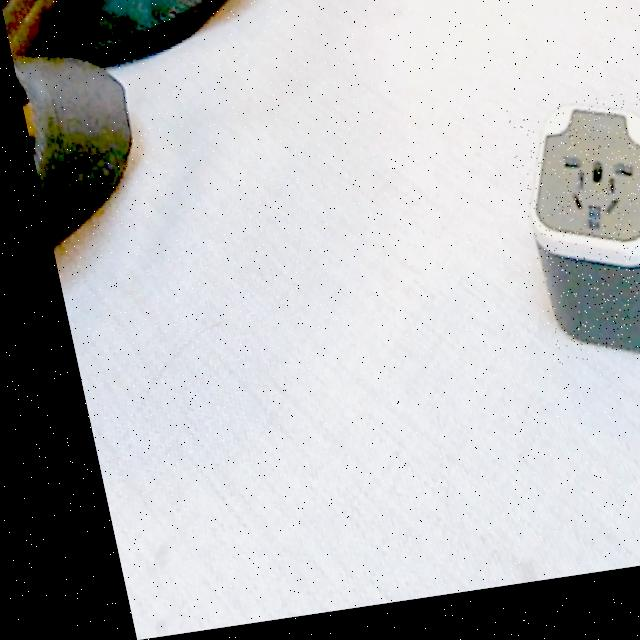adapter: (497, 109, 640, 380)
